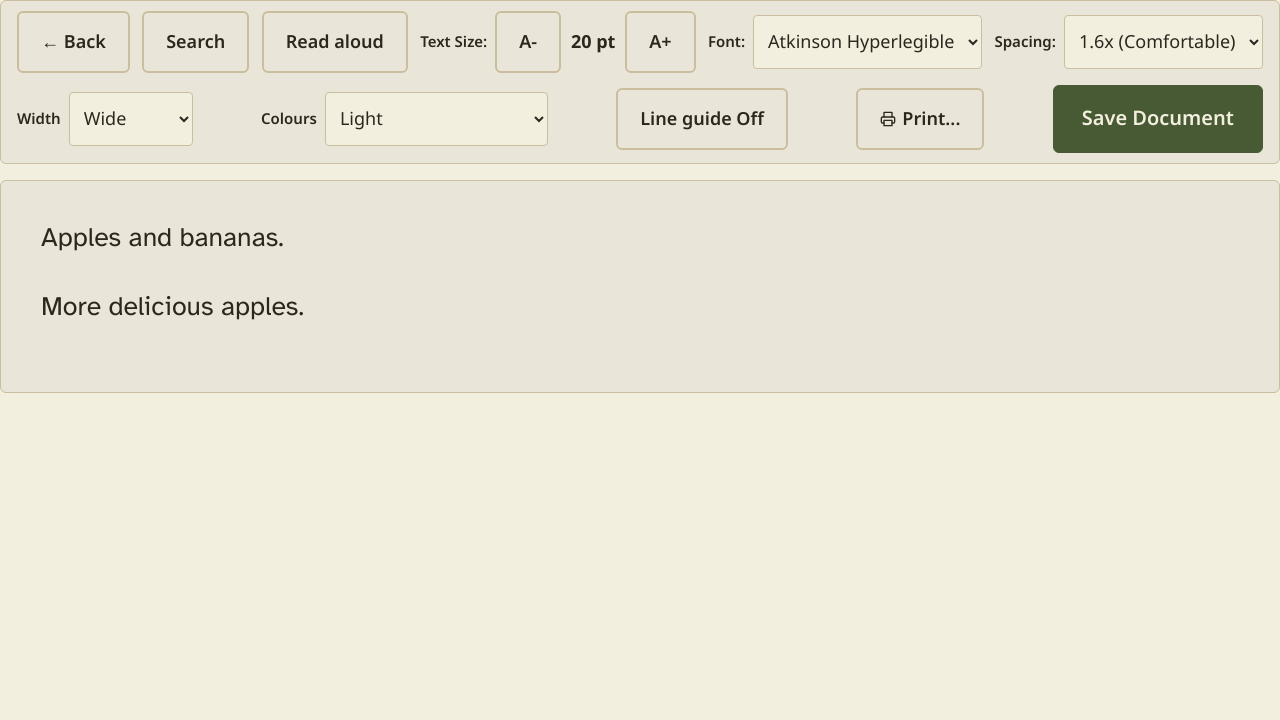
ReaderView › supports in-reader search with match cycling (A11Y-002, A11Y-003)
This screenshot has width=1280, height=720.
Click the button "Search". click: (196, 42)
box: [142, 11, 249, 73]
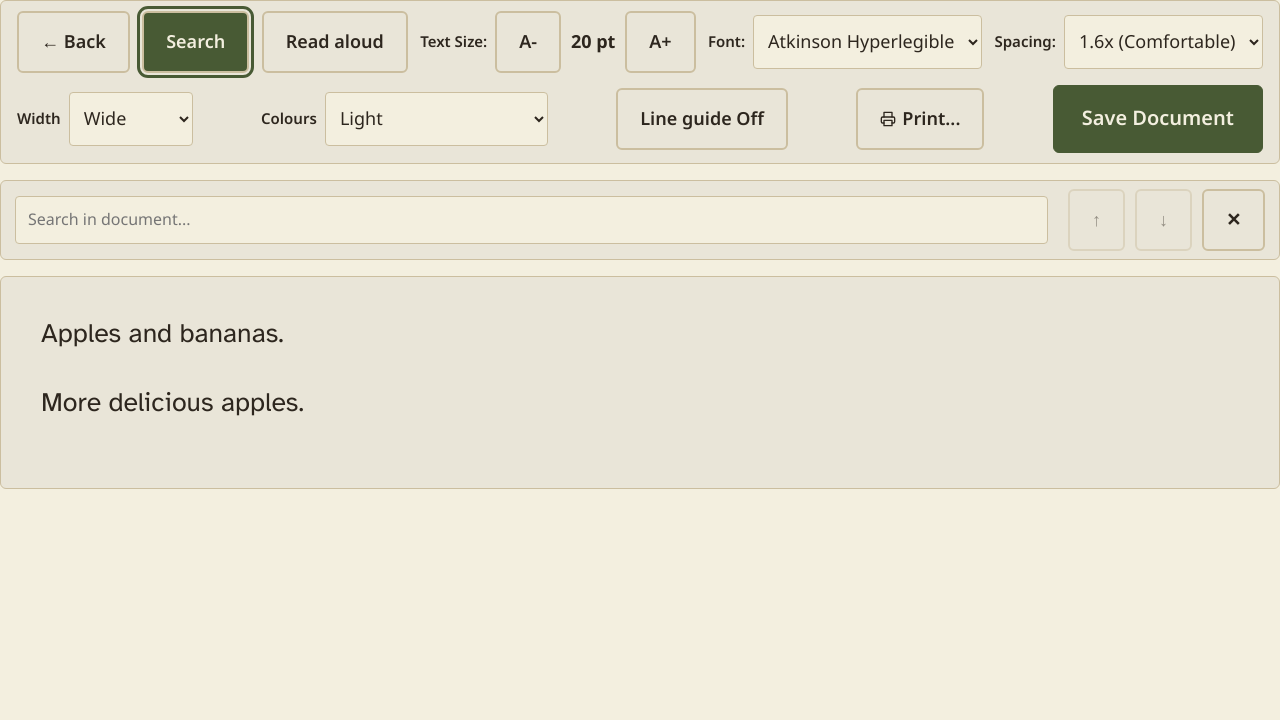
Result: the search field with placeholder "Search in document..." is shown
Type "apples" into the search field with placeholder "Search in document...". click: (531, 220)
box: [15, 196, 1048, 244]
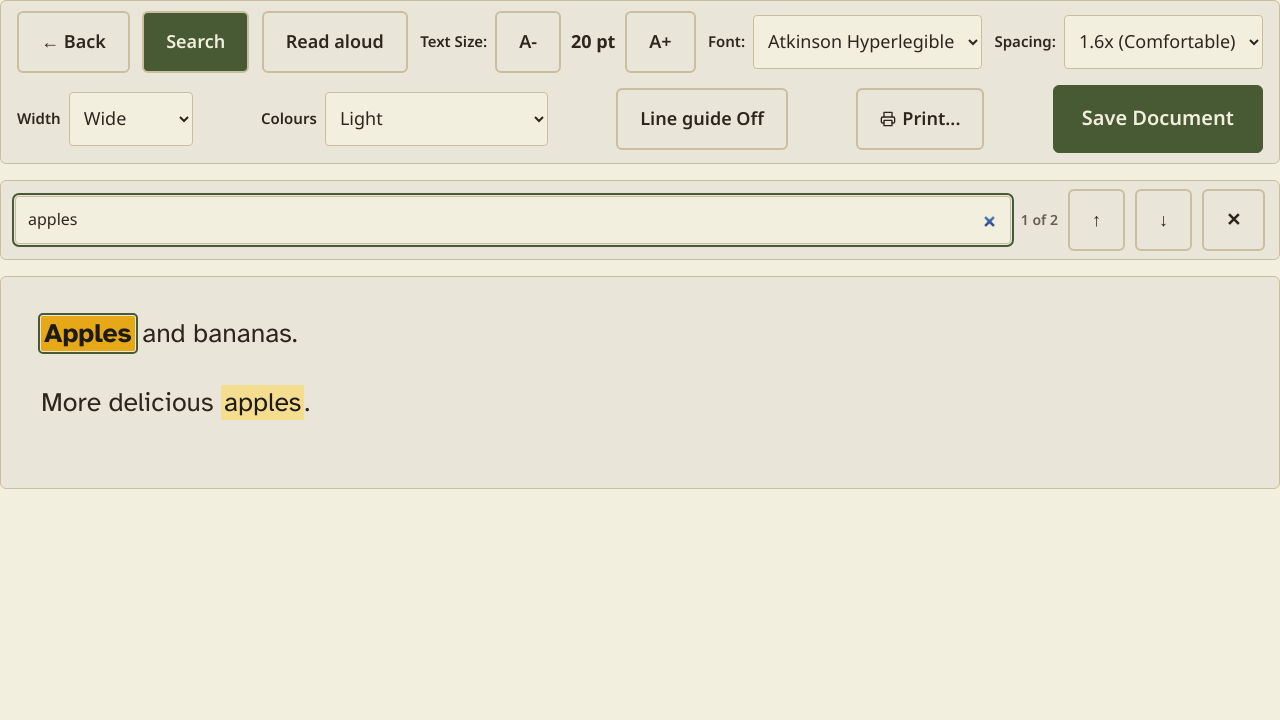
Result: the text "1 of 2" is shown at [1021, 210, 1058, 230]
Click the button named "next match". click: (1163, 220)
box: [1135, 189, 1192, 251]
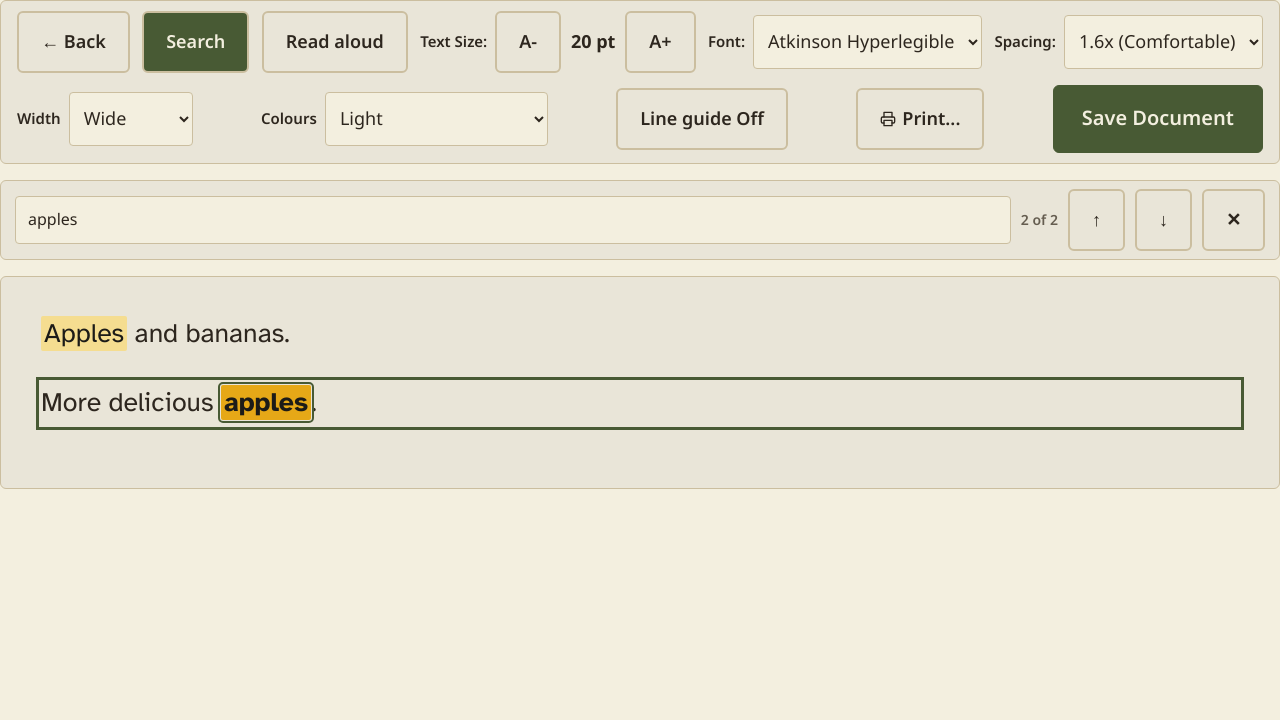
Result: the text "2 of 2" is shown at [1021, 210, 1058, 230]
